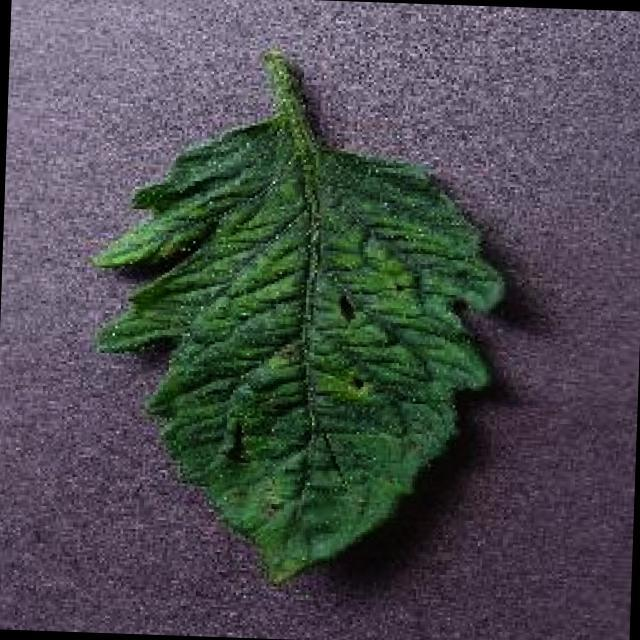Tomato mosaic virus leaf: (79, 112, 512, 598)
